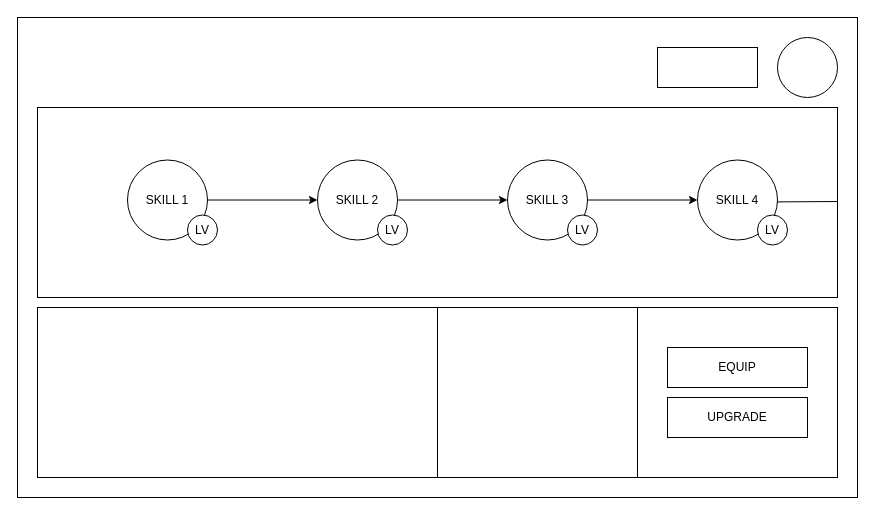
The diagram is 875 pixels wide and 515 high, and some of its shapes have lost their labels. The shapes that lost their labels are listed below. From the top down, each one's centre as x and y in pixels, then its label:
pixel 707 67: JUMLAH SKILL POINT
pixel 807 67: BACK
pixel 237 392: DESKRIPSI SKILL
pixel 537 392: STAT SKILL + PREVIEW UPGRAGE
